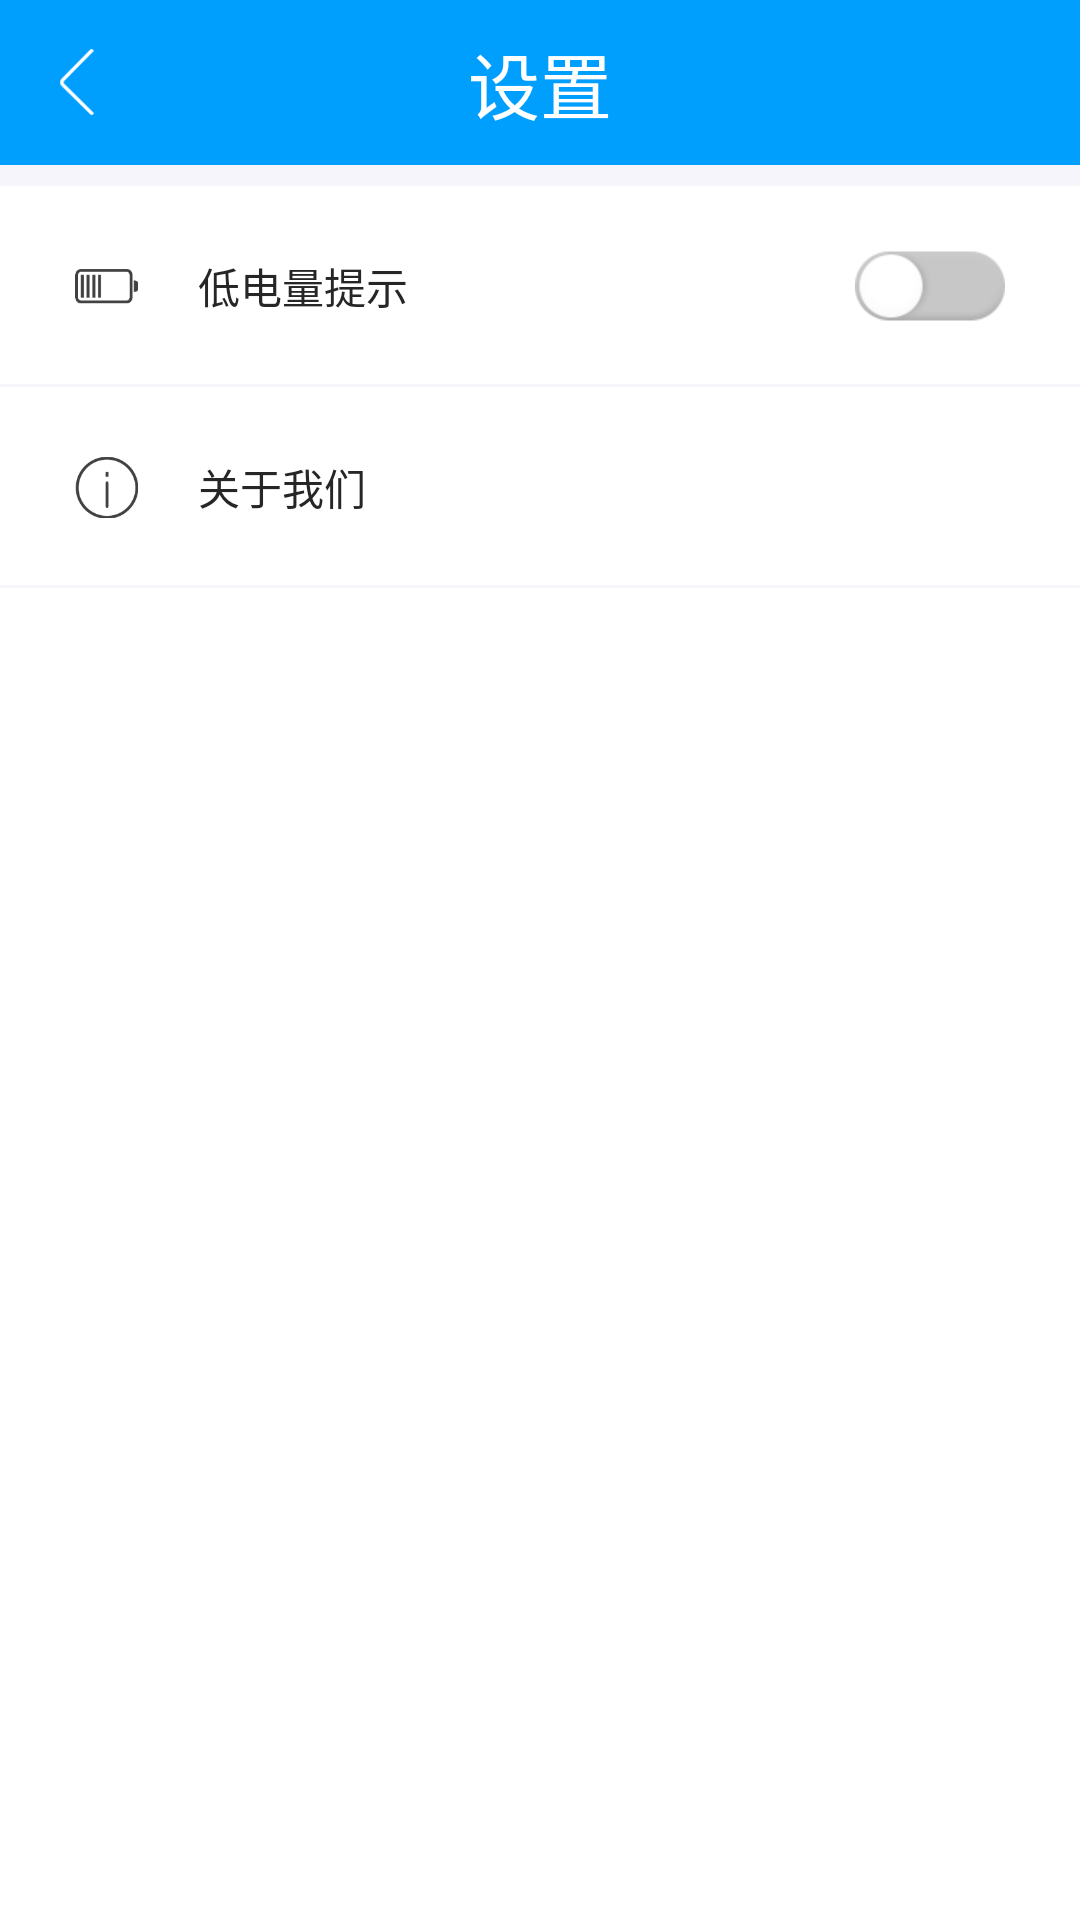

Locate icon controls on the screen. Image size 1080 × 1920, boxes as bbox(x1, y1, x2, y2).
back: bbox(60, 49, 94, 115)
setting about: bbox(75, 457, 138, 518)
setting battery: bbox(75, 269, 138, 304)
